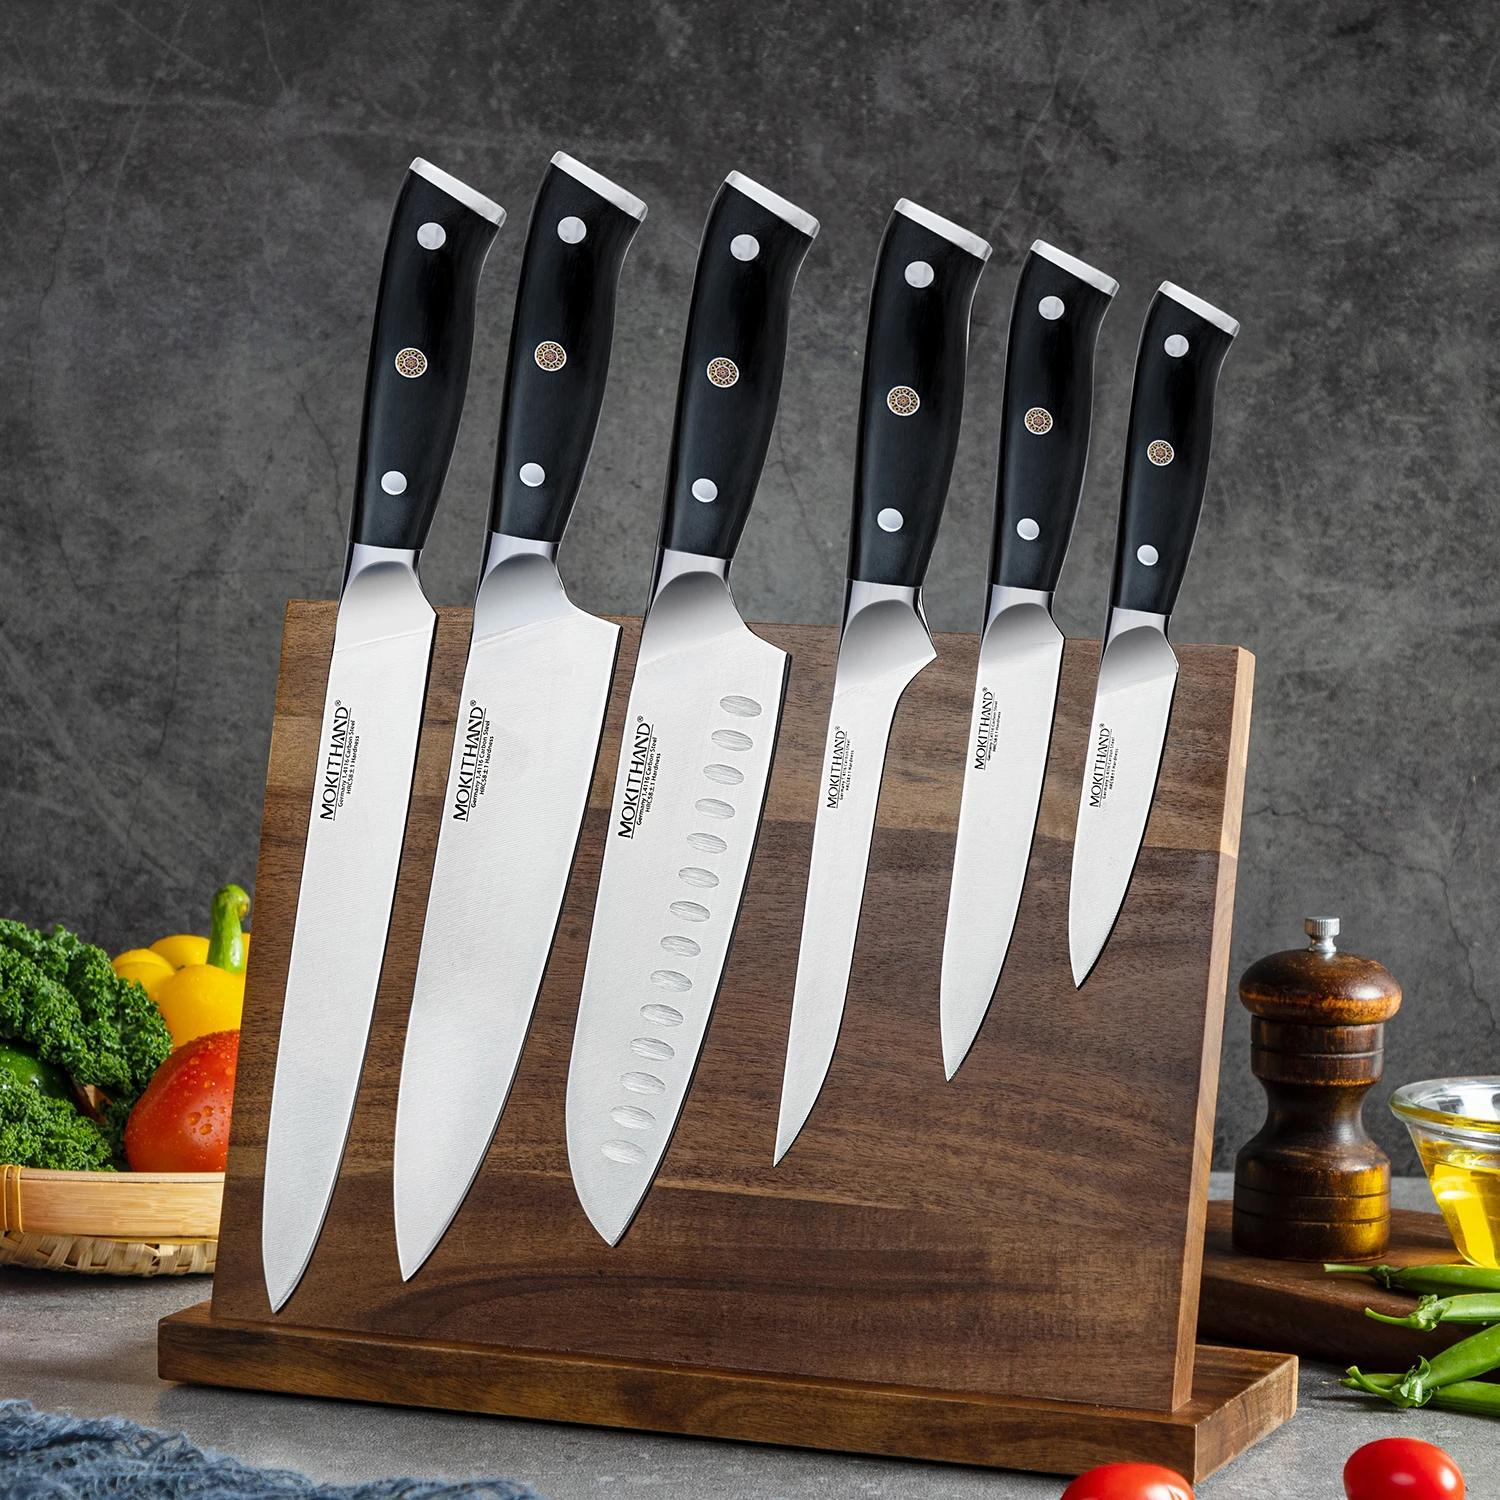faca: (393, 152, 644, 1279), (262, 158, 504, 1310), (565, 174, 819, 1245), (775, 199, 990, 1162), (940, 240, 1117, 1077), (1069, 282, 1238, 984)
